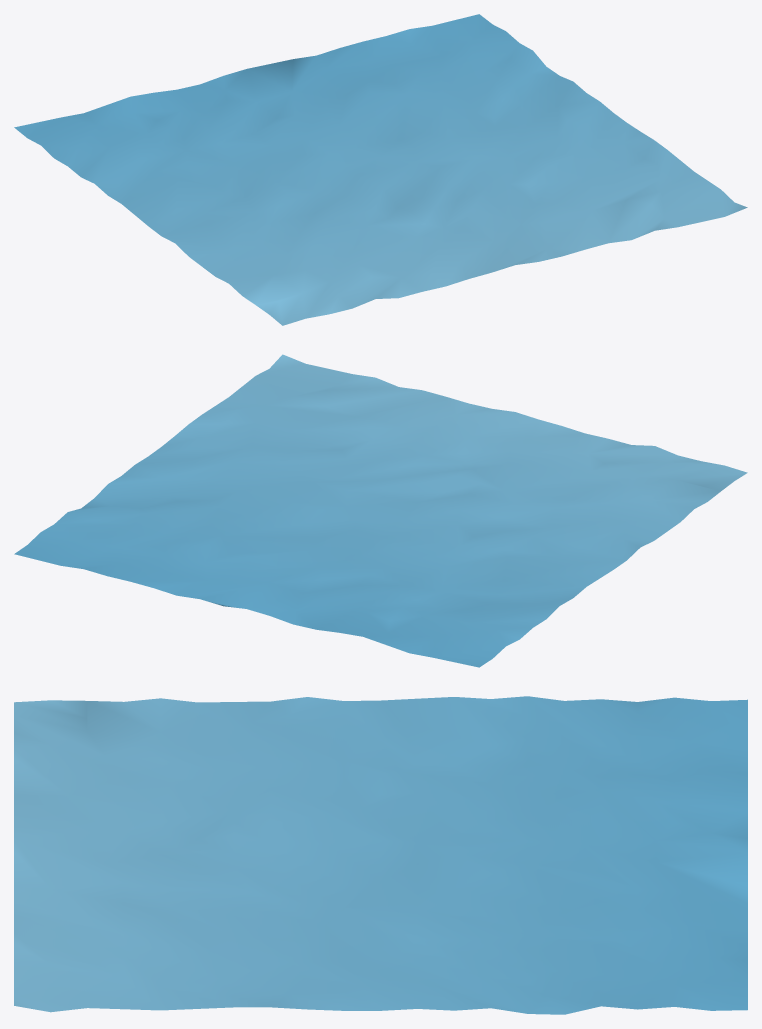
File: water 1.fbx
The picture shows the model from 3 angles, top to bottom: view 1: azimuth 30°, elevation 25°; view 2: azimuth 150°, elevation 25°; view 3: azimuth 270°, elevation 25°; orthographic projection. The views are drawn at different scales.
Visible parts, largest first — view 1: water_1; view 2: water_1; view 3: water_1.
Part boxes in pixels (x1,y1,x2,y2): water_1: (14, 14, 747, 325); water_1: (14, 354, 747, 667); water_1: (14, 696, 747, 1014).
Bounding box in the file's own units: 25567 × 385 × 25567.
Materials: 1 (1 with a texture image).
